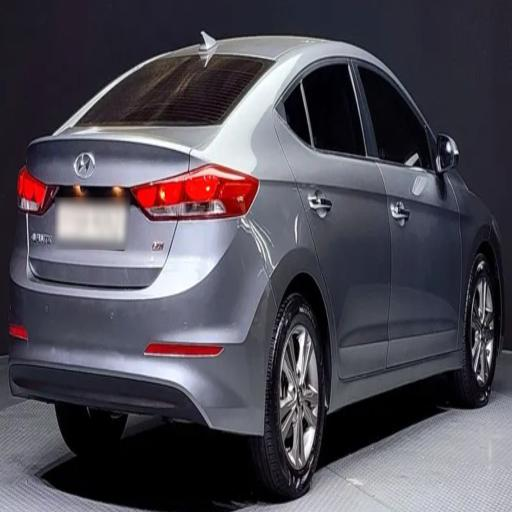normal: (7, 8, 509, 496)
